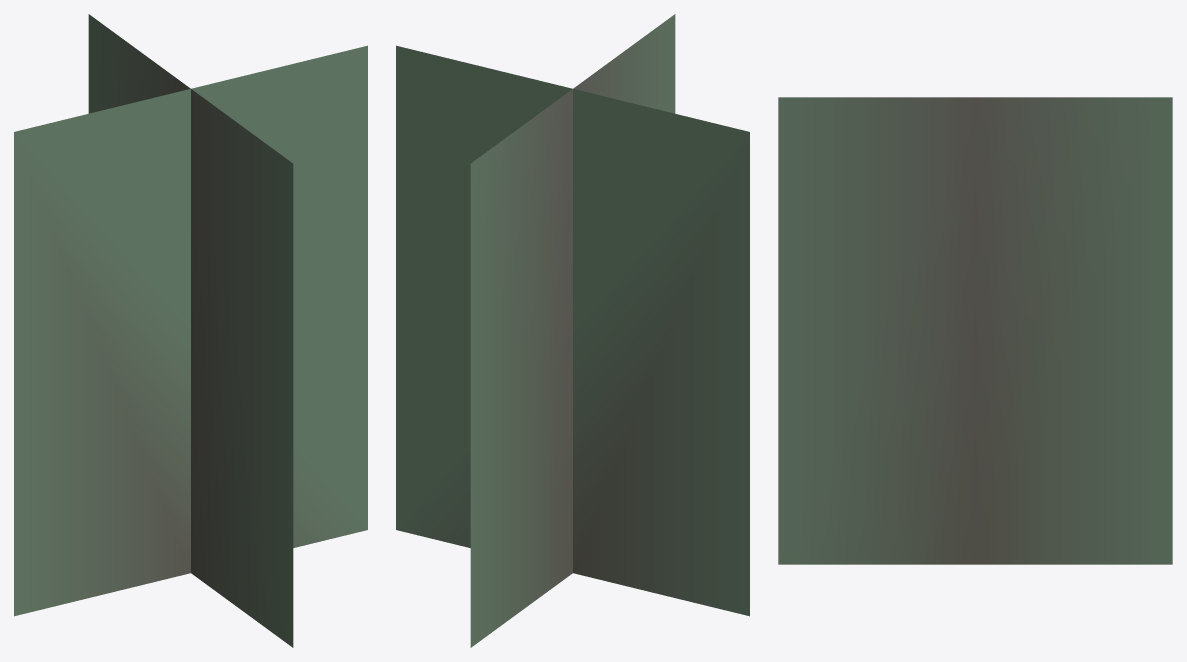
File: tree-pine-large.glb
3 views of the same model, side by side, from view 1: azimuth 30°, elevation 25°; view 2: azimuth 150°, elevation 25°; view 3: azimuth 270°, elevation 25° (orthographic). The views are drawn at different scales.
Visible parts, largest first — view 1: tree-pine-large; view 2: tree-pine-large; view 3: tree-pine-large.
Boxes of the visible parts, left/top/right/bottom form: tree-pine-large: left=14, top=14, right=367, bottom=647; tree-pine-large: left=396, top=14, right=749, bottom=647; tree-pine-large: left=778, top=97, right=1172, bottom=564.
Bounding box in the file's own units: 1.3 × 1.7 × 1.3.
